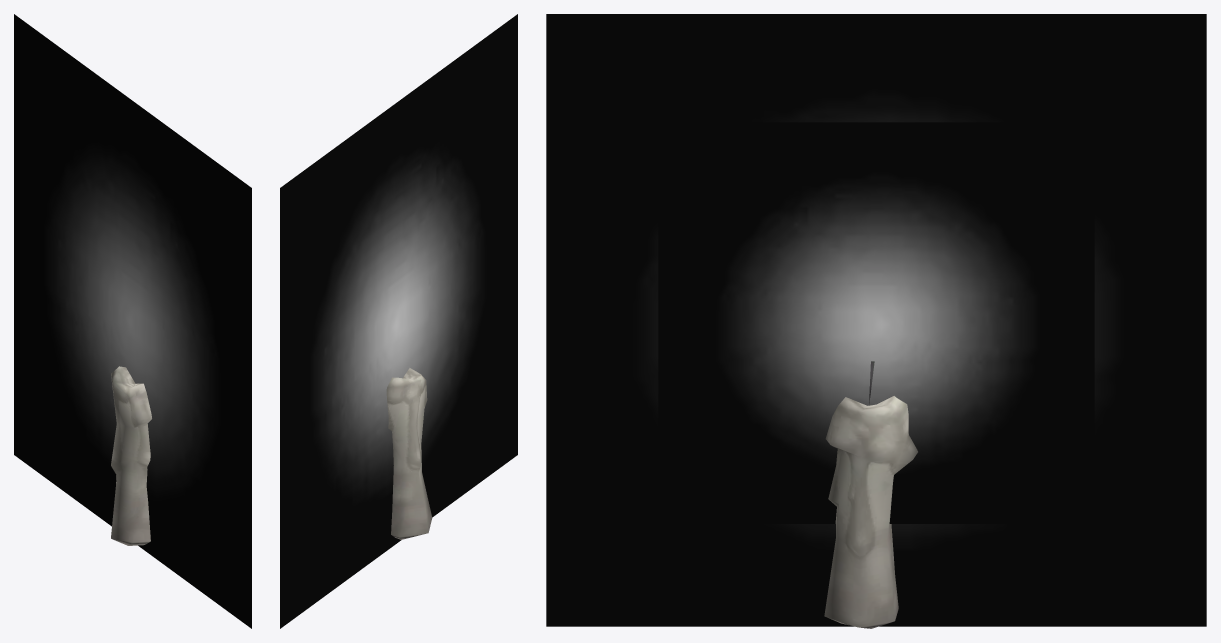
3 renders of one model, left to right at view 1: azimuth 30°, elevation 25°; view 2: azimuth 150°, elevation 25°; view 3: azimuth 270°, elevation 25°, orthographic. The views are drawn at different scales.
Size of the model in its own units: 0.1946 by 1.55 by 1.51.
3 materials, 3 textured.
